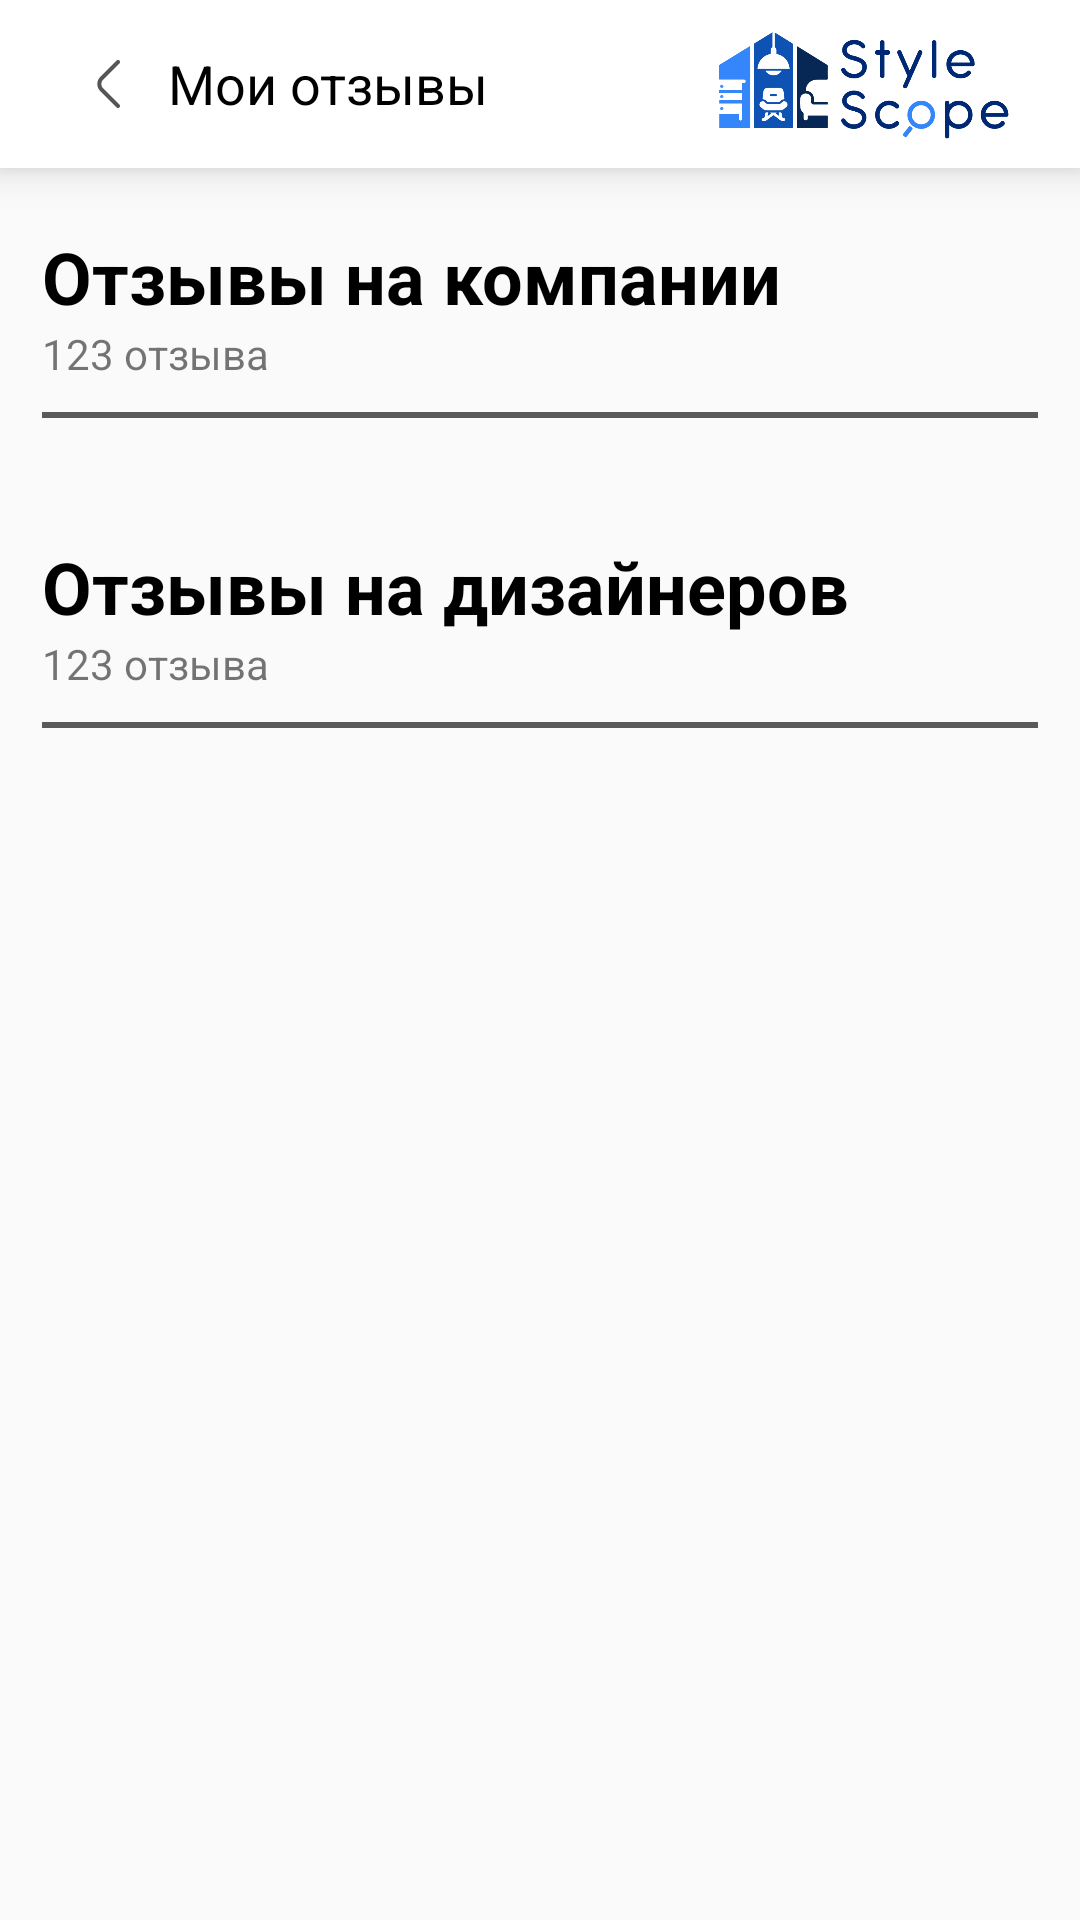

Icon click points for this 1080x1920 phone screenshot, format point (x, y):
back urmat: point (108, 84)
